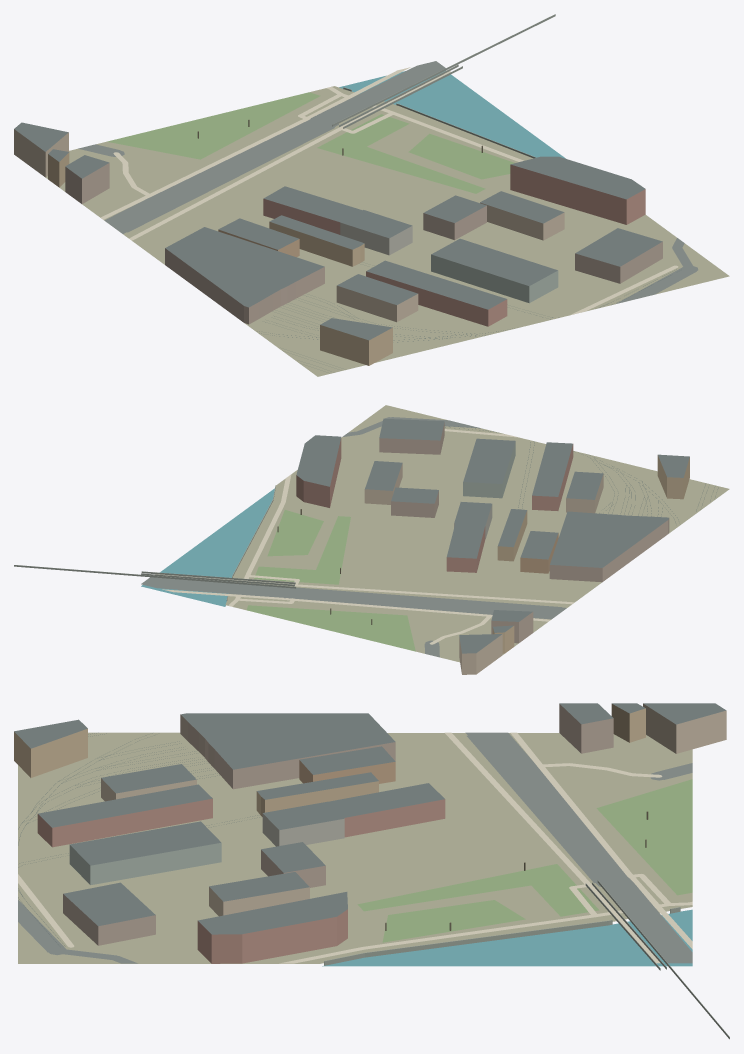
File: sector--4_-5.glb
3 renders of one model, top to bottom at view 1: azimuth 30°, elevation 25°; view 2: azimuth 150°, elevation 25°; view 3: azimuth 270°, elevation 25°, orthographic. The views are drawn at different scales.
Parts seen in each view (by area): view 1: -4:-5-ground, -4:-5-roof, -4:-5-facade, -4:-5-park, -4:-5-road, -4:-5-water, -4:-5-paving, -4:-5-bank; view 2: -4:-5-ground, -4:-5-roof, -4:-5-facade, -4:-5-park, -4:-5-road, -4:-5-water, -4:-5-paving, -4:-5-bank; view 3: -4:-5-ground, -4:-5-roof, -4:-5-facade, -4:-5-park, -4:-5-road, -4:-5-water, -4:-5-paving, -4:-5-bank, -4:-5-rail.
Part boxes in pixels (box(x1,y1,x2,y2)): -4:-5-ground: box(45, 86, 729, 376); -4:-5-roof: box(14, 122, 662, 340); -4:-5-facade: box(14, 129, 662, 365); -4:-5-park: box(107, 92, 514, 193); -4:-5-road: box(78, 61, 698, 303); -4:-5-water: box(339, 70, 565, 158); -4:-5-paving: box(100, 67, 678, 314); -4:-5-bank: box(332, 14, 555, 158); -4:-5-ground: box(225, 405, 729, 662); -4:-5-roof: box(296, 418, 689, 653); -4:-5-facade: box(296, 422, 689, 674); -4:-5-park: box(247, 510, 415, 651); -4:-5-road: box(141, 417, 566, 657); -4:-5-water: box(141, 488, 274, 606); -4:-5-paving: box(155, 429, 574, 644); -4:-5-bank: box(14, 485, 296, 600); -4:-5-ground: box(18, 732, 692, 963); -4:-5-roof: box(14, 703, 726, 934); -4:-5-facade: box(14, 703, 726, 963); -4:-5-park: box(357, 779, 692, 942); -4:-5-road: box(18, 732, 692, 963); -4:-5-water: box(322, 909, 692, 966); -4:-5-paving: box(18, 732, 692, 963); -4:-5-bank: box(324, 880, 729, 1039); -4:-5-rail: box(18, 732, 259, 946).
Size of the model in its own units: 215 by 10.45 by 212.
